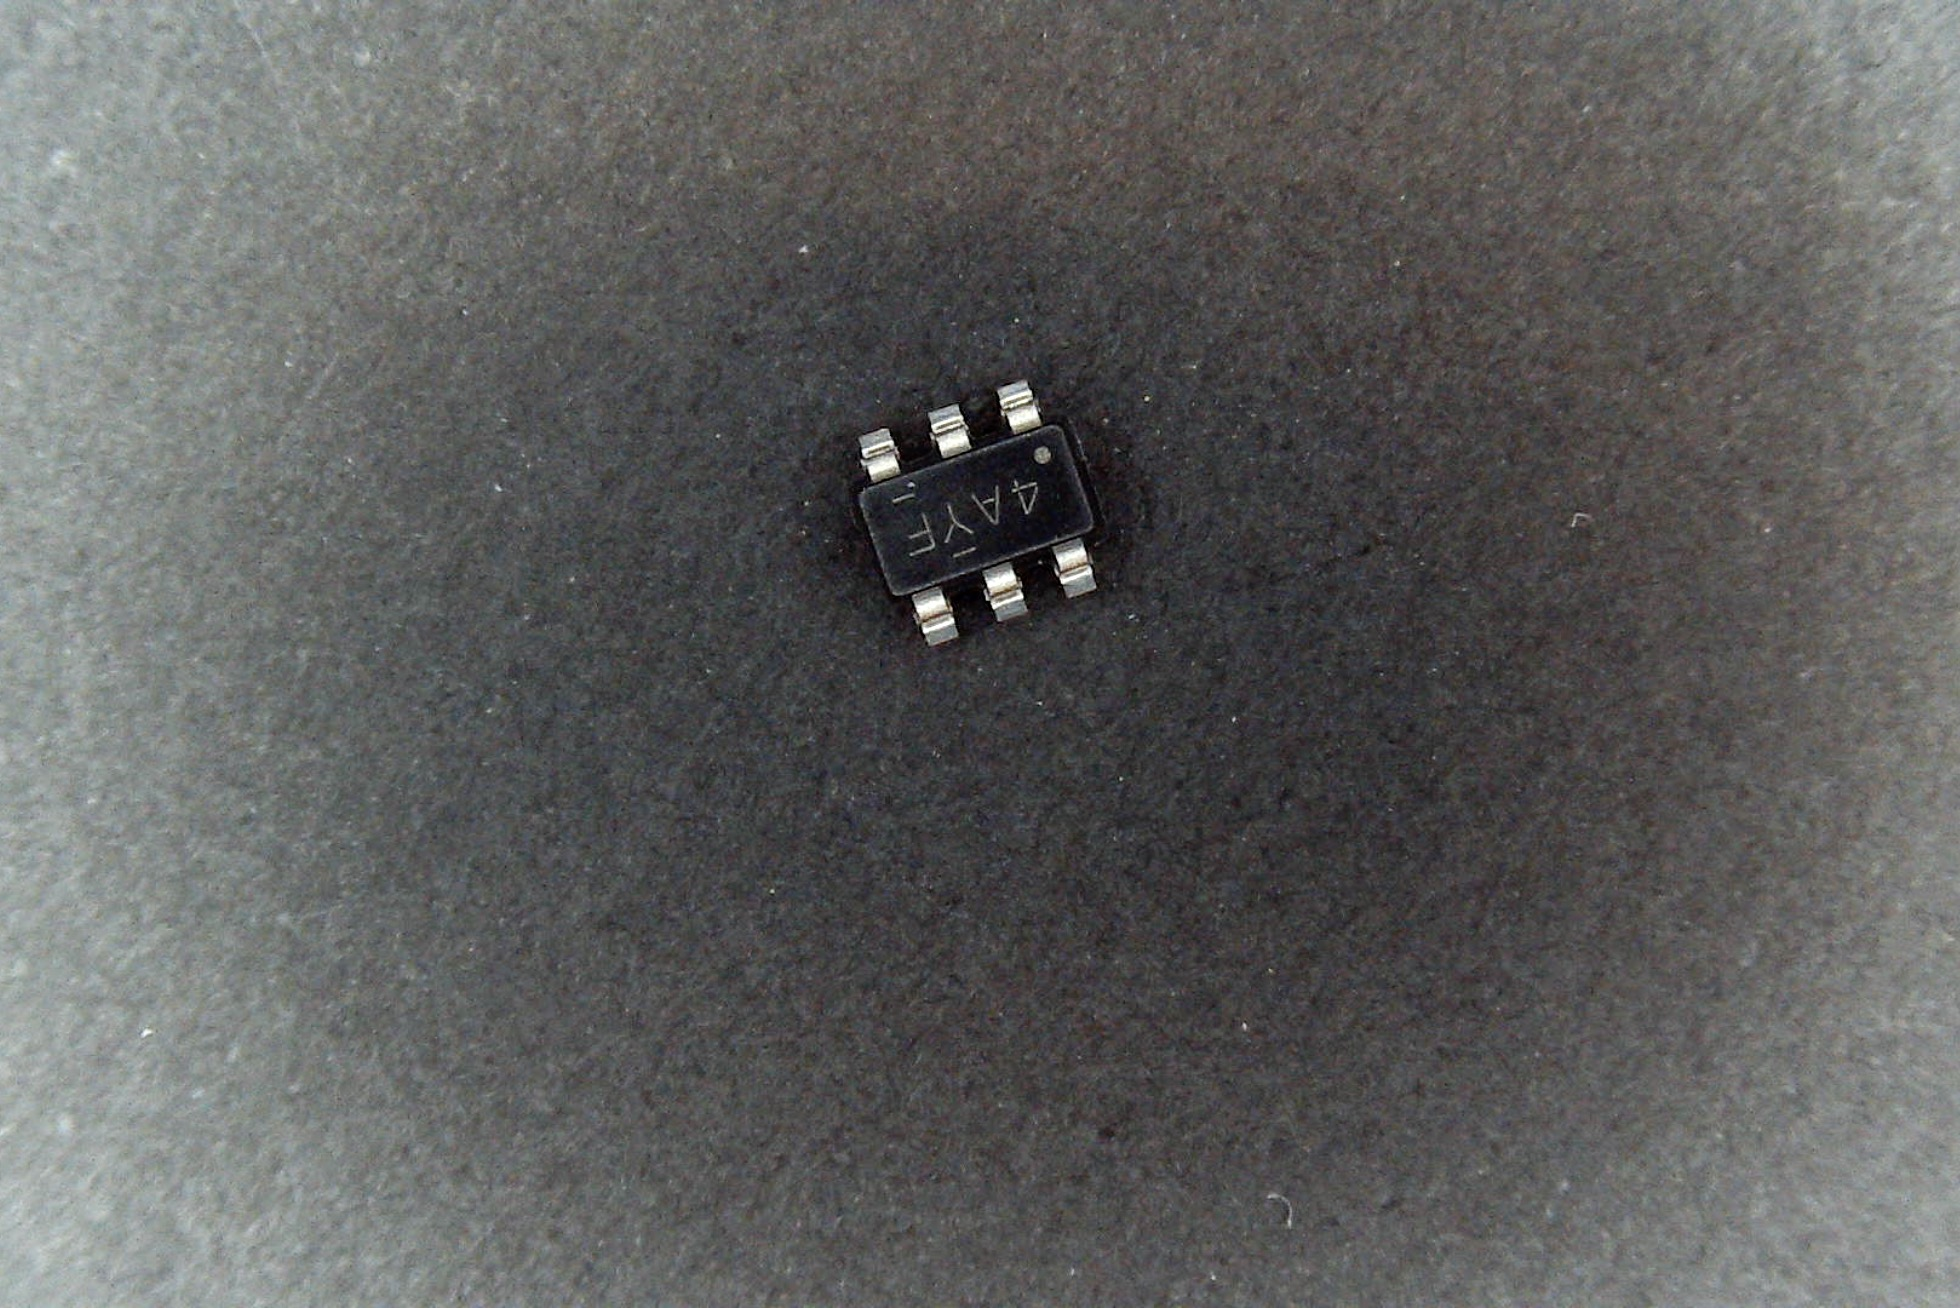bbox: (838, 368, 1111, 650)
